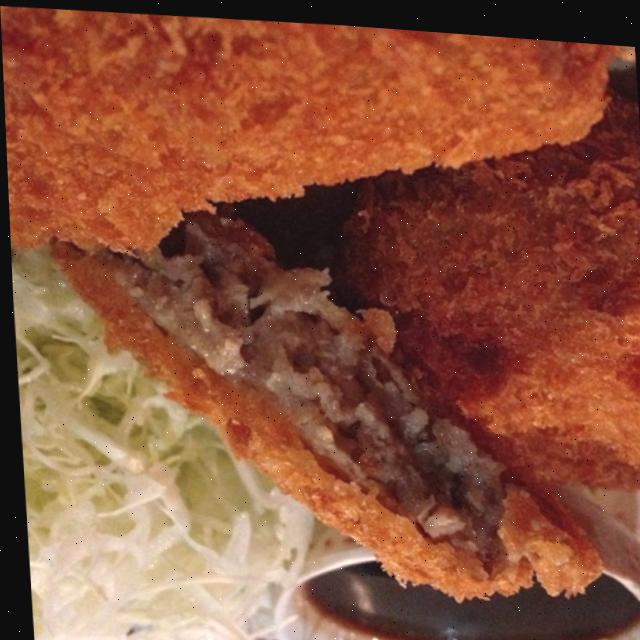炸货点心: (20, 1, 638, 636)
